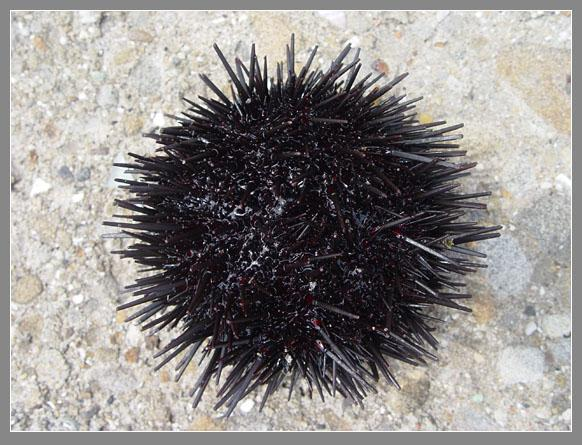urchin: (121, 52, 473, 387)
